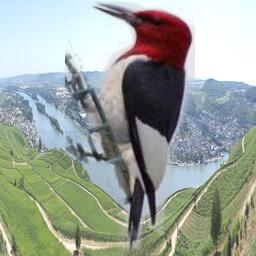Woodpecker: (65, 1, 195, 252)
